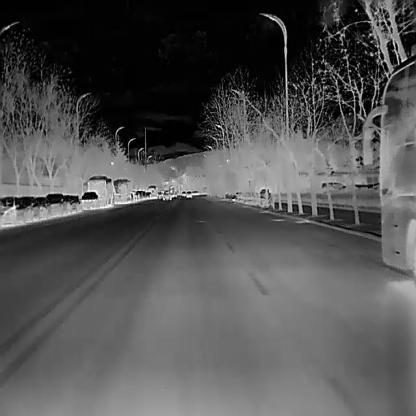car: (362, 54, 415, 277), (86, 173, 114, 211), (0, 195, 26, 225), (18, 196, 40, 221), (46, 191, 64, 218), (114, 177, 131, 205), (79, 190, 99, 210), (34, 196, 51, 218), (63, 193, 76, 212), (70, 194, 81, 211), (147, 185, 158, 198), (186, 190, 193, 198)
